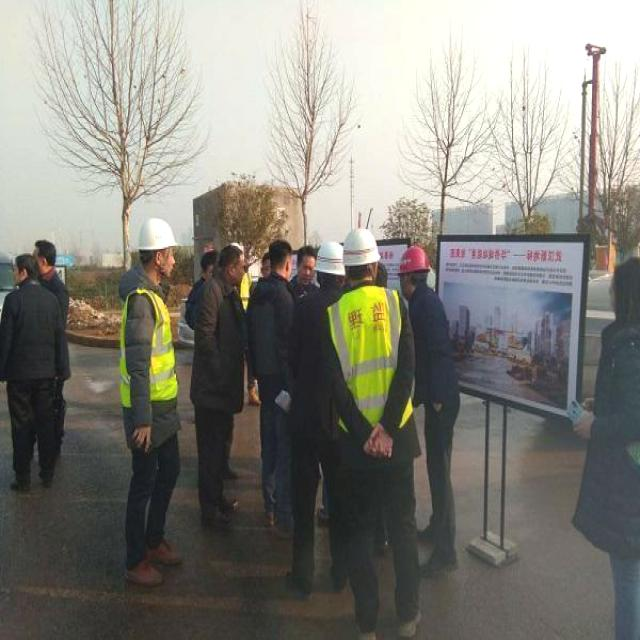head_helmet: (340, 216, 390, 268), (136, 210, 179, 260), (312, 228, 355, 278), (399, 234, 431, 278)
head_nohelmet: (10, 254, 40, 286), (267, 238, 288, 278), (34, 238, 58, 270), (296, 242, 314, 264)
person: (304, 211, 416, 628), (109, 191, 212, 586), (583, 250, 639, 630), (238, 236, 307, 542), (1, 238, 80, 492), (186, 246, 252, 533), (403, 249, 462, 569)
vest: (330, 280, 412, 440), (114, 279, 191, 414)
